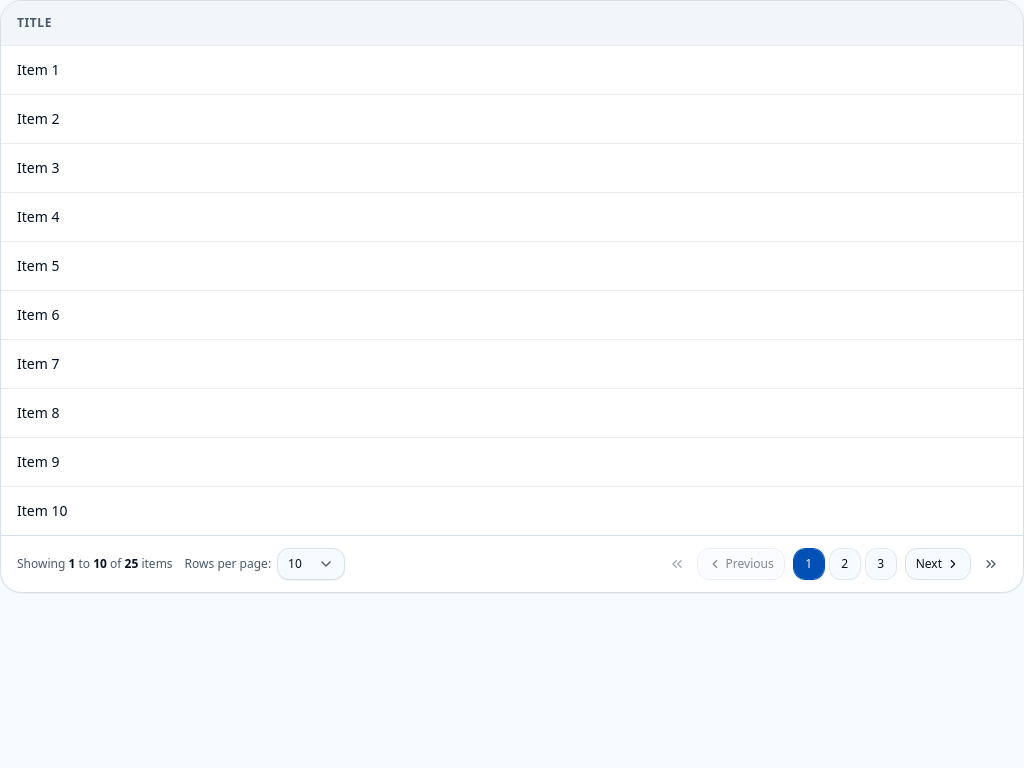
DataTable with Pagination › paginates rows and displays only pageSize rows on page 1
Expected: the text "Item 1" is shown, [17, 60, 59, 78]
Expected: the text "Item 10" is shown, [17, 500, 68, 520]
Click next page
Click the button "Next".
click(938, 564)  # box [905, 548, 971, 580]
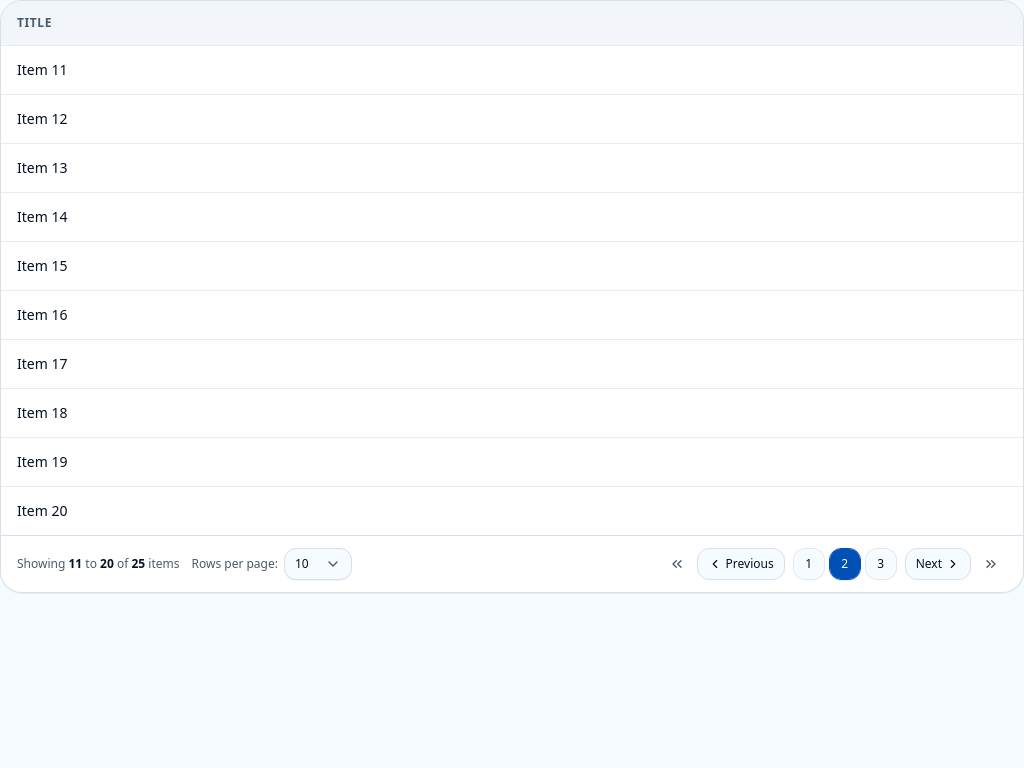
Expected: the text "Item 11" is shown, [17, 60, 68, 78]
Expected: the text "Item 20" is shown, [17, 500, 68, 520]
